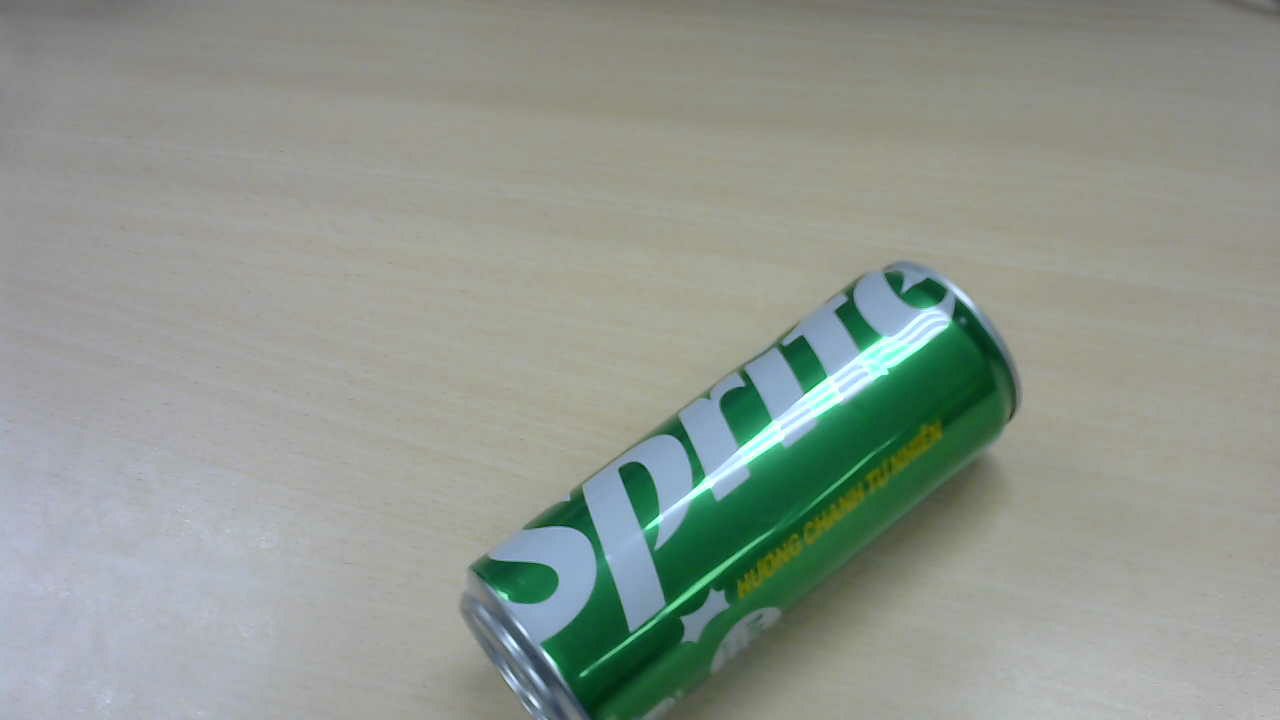Sprite: (449, 270, 1027, 697)
